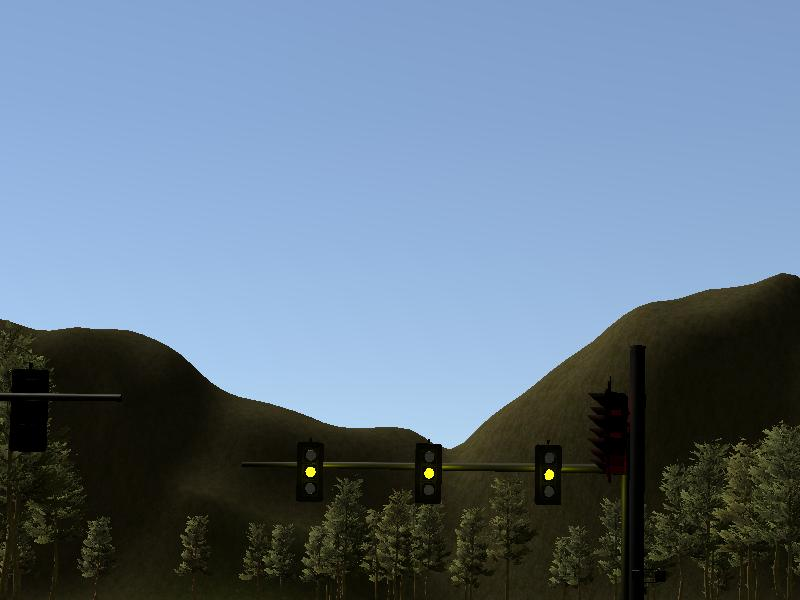Yellow: (413, 442, 443, 504), (535, 444, 560, 506), (297, 441, 322, 502)
